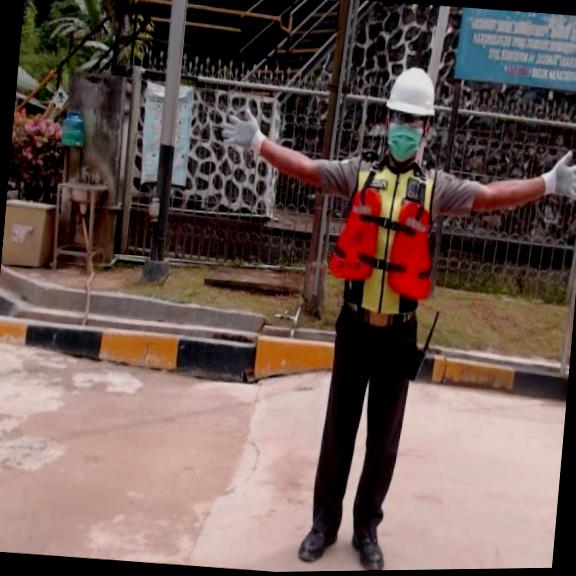safety_vest: (328, 189, 442, 305)
